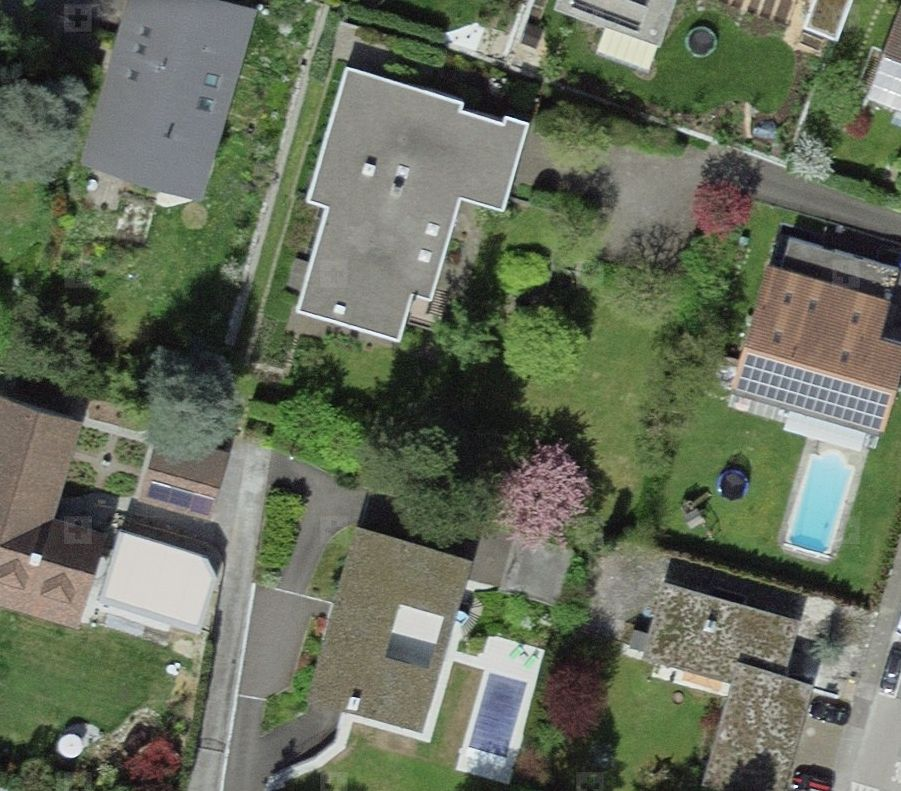solar: (734, 352, 889, 434), (139, 476, 224, 525)
